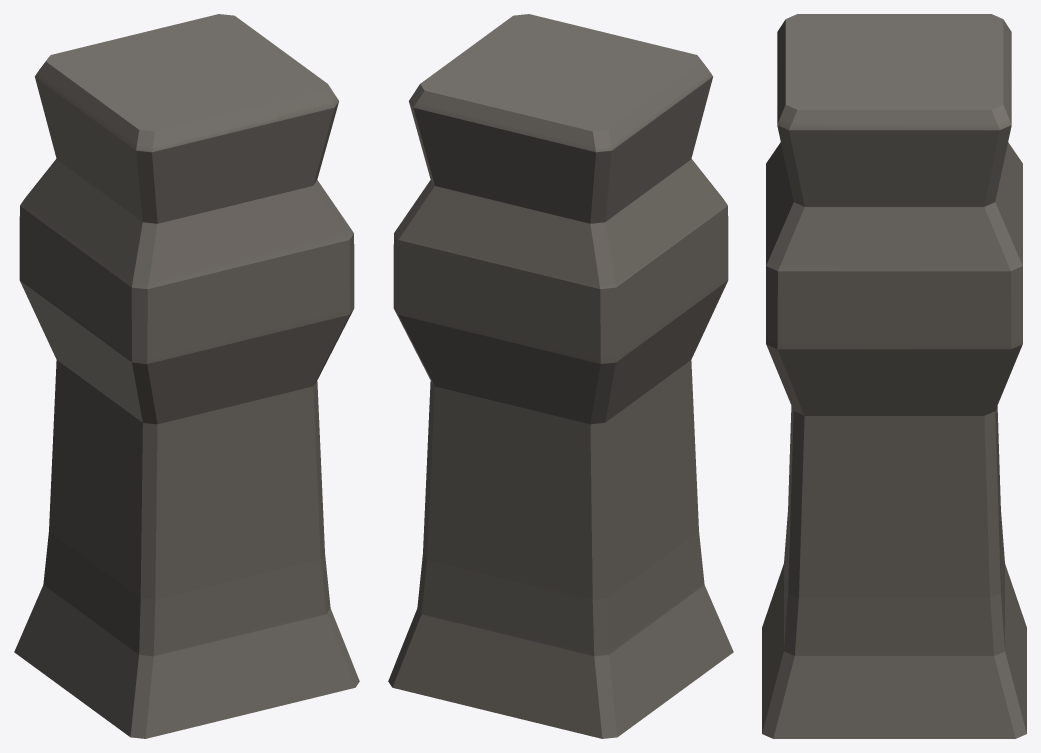
Rendered from fence1.fbx.
3 views of the same model, side by side, from view 1: azimuth 30°, elevation 25°; view 2: azimuth 150°, elevation 25°; view 3: azimuth 270°, elevation 25° (orthographic). The views are drawn at different scales.
Visible parts, largest first — view 1: Object146; view 2: Object146; view 3: Object146.
Part boxes in pixels (x1,y1,x2,y2): Object146: (14, 14, 359, 738); Object146: (388, 14, 733, 738); Object146: (762, 14, 1026, 738).
Size of the model in its own units: 23.74 by 58.75 by 22.79.
